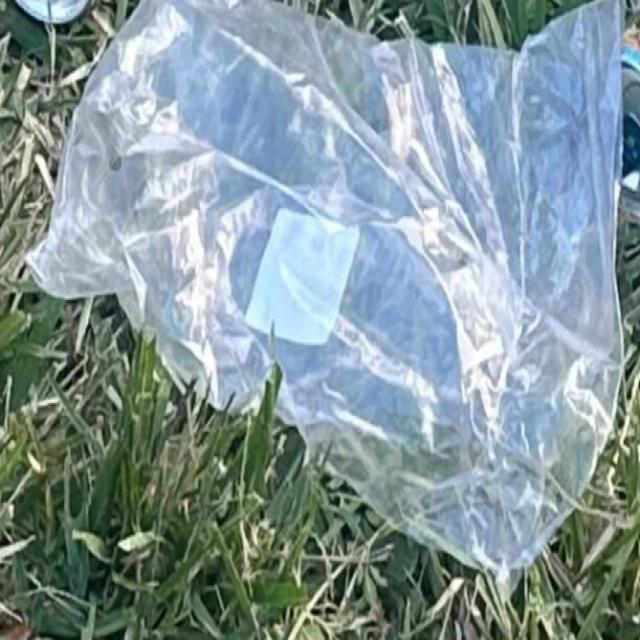plastic bag: (25, 0, 640, 567)
